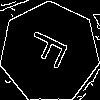F: (25, 27, 78, 75)
